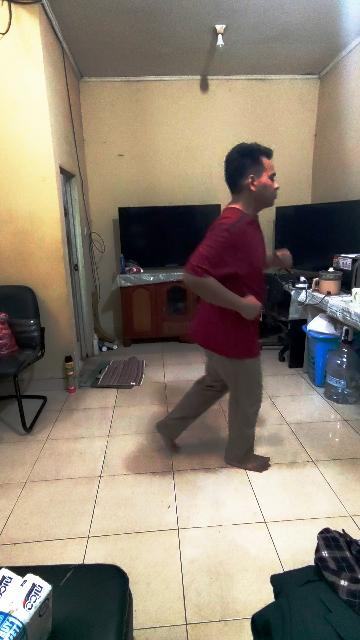berlari: (157, 131, 295, 471)
